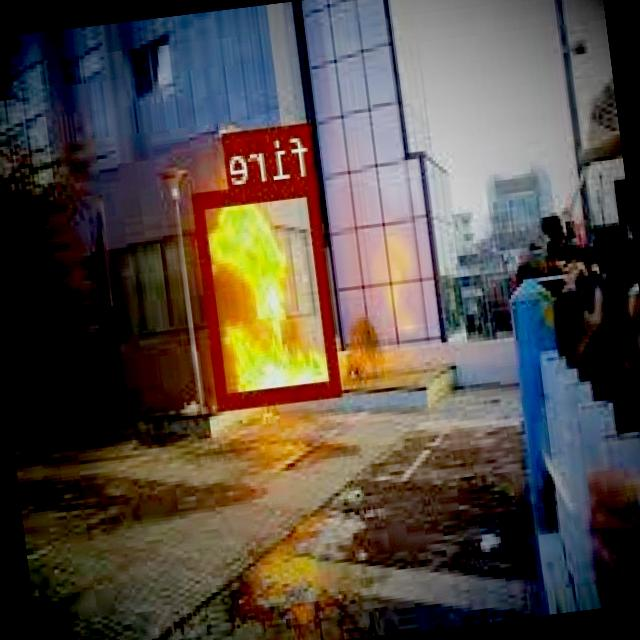fire: (193, 176, 343, 406)
